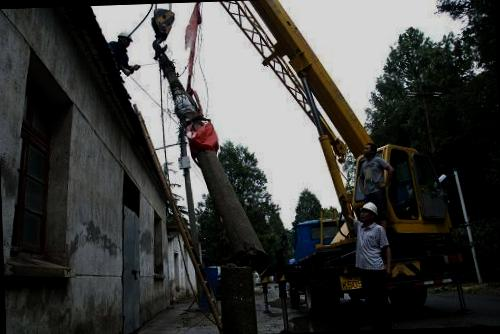no_helmet: (358, 138, 379, 160)
